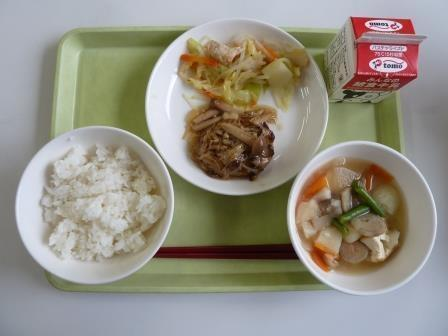Milk: (329, 8, 424, 105)
Rice: (28, 130, 169, 277)
Soups: (286, 146, 431, 291)
cooked food based on meat: (183, 103, 290, 181)
salad with sauce: (173, 23, 308, 107)
